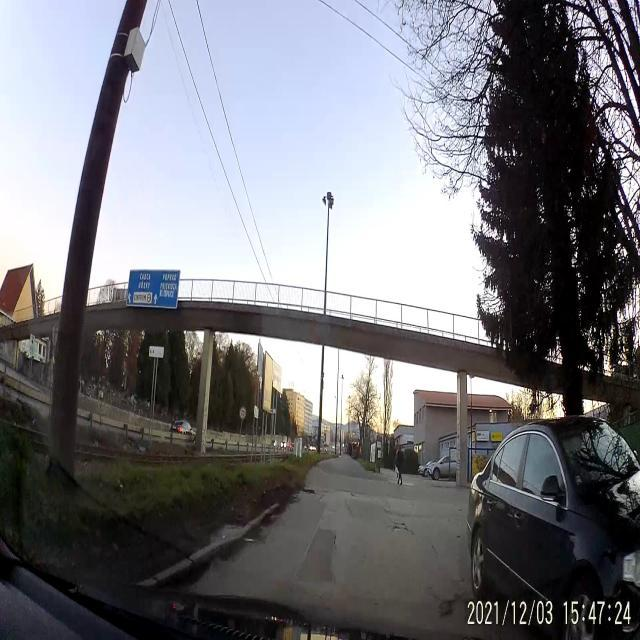Pothole: (434, 593, 468, 623), (390, 518, 412, 540), (303, 485, 316, 500)
